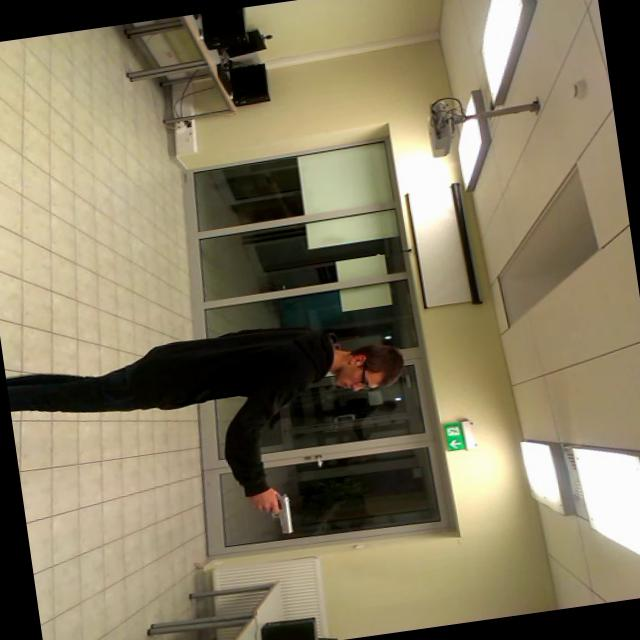handgun: (250, 479, 302, 542)
